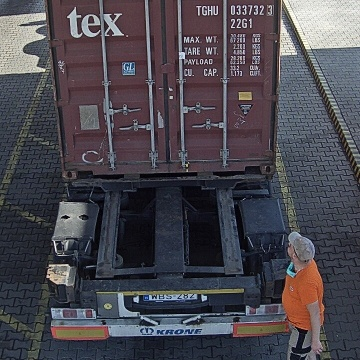serial_id: (196, 5, 273, 15)
